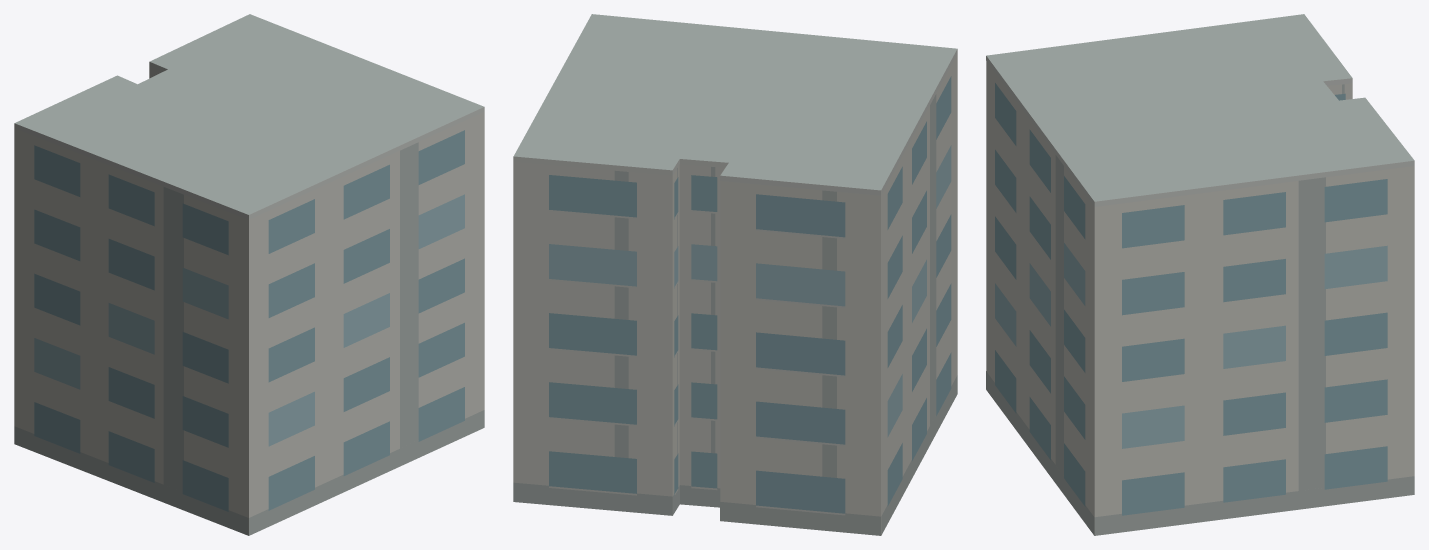
File: survey-upis-32617611.glb
3 renders of one model, left to right at view 1: azimuth 30°, elevation 25°; view 2: azimuth 150°, elevation 25°; view 3: azimuth 270°, elevation 25°, orthographic. The views are drawn at different scales.
Visible parts, largest first — view 1: survey-upis-32617611.tmp; view 2: survey-upis-32617611.tmp; view 3: survey-upis-32617611.tmp.
Part boxes in pixels (left/top/right/bottom): survey-upis-32617611.tmp: left=14, top=14, right=484, bottom=535; survey-upis-32617611.tmp: left=513, top=14, right=957, bottom=535; survey-upis-32617611.tmp: left=986, top=14, right=1414, bottom=535.
Bounding box in the file's own units: 18.69 × 15.5 × 18.02.
